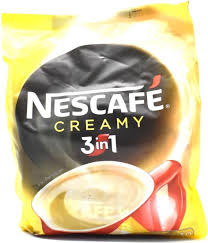nescafe-classic/gold-med: (8, 3, 201, 237)
